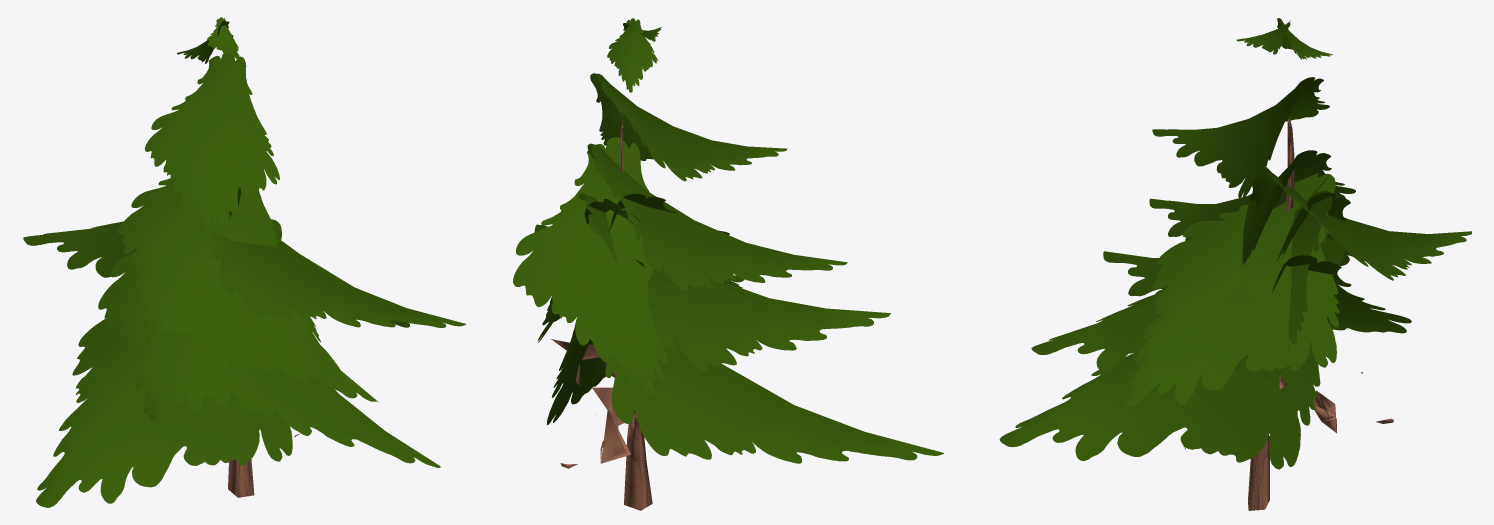
The model's file is Pine_2_L.gltf.
The picture shows the model from 3 angles, left to right: view 1: azimuth 30°, elevation 25°; view 2: azimuth 150°, elevation 25°; view 3: azimuth 270°, elevation 25°; orthographic projection. The views are drawn at different scales.
Parts seen in each view (by area): view 1: Pine_2_L; view 2: Pine_2_L; view 3: Pine_2_L.
Part boxes in pixels (x1,y1,x2,y2): Pine_2_L: (23,17,465,507); Pine_2_L: (513,18,943,510); Pine_2_L: (999,18,1471,510).
Bounding box in the file's own units: 6.99 × 7.43 × 6.79.
2 materials, 2 textured.
